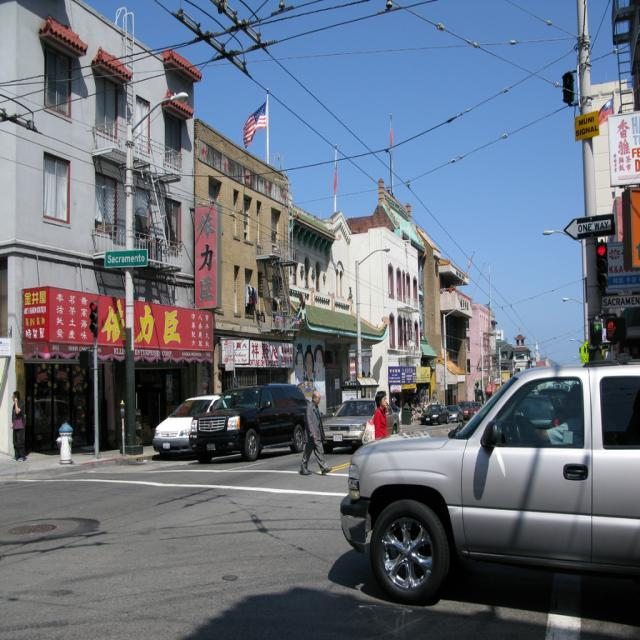traffic light: (596, 242, 609, 290)
